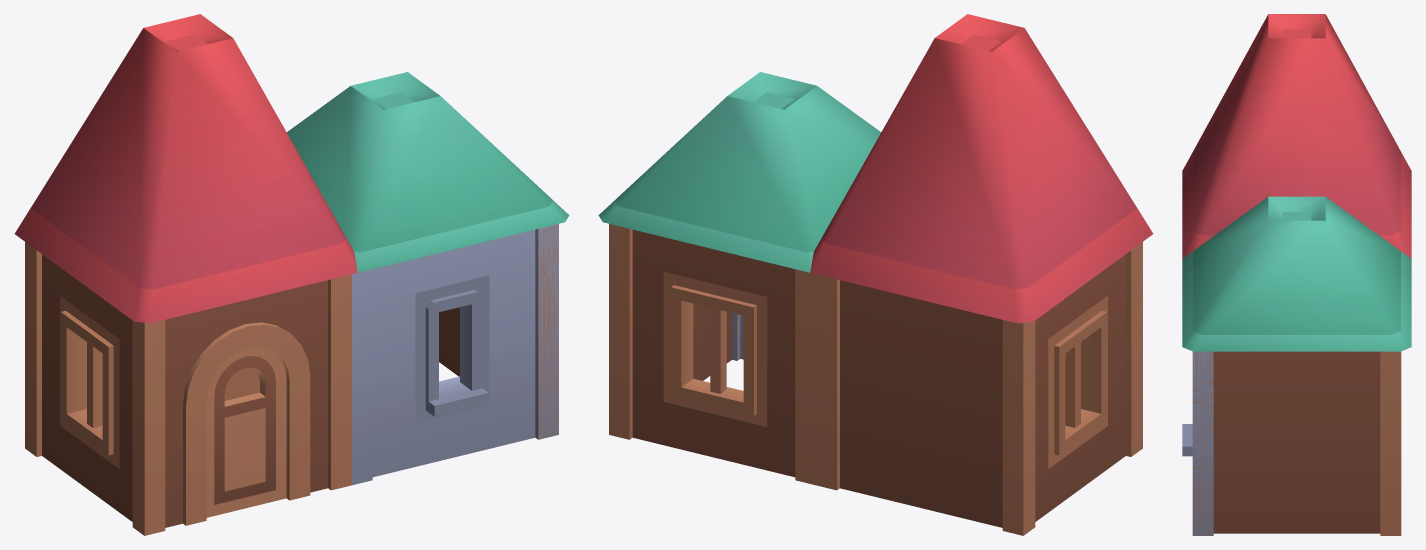
Rendered from human_c.glb.
The picture shows the model from 3 angles, left to right: view 1: azimuth 30°, elevation 25°; view 2: azimuth 150°, elevation 25°; view 3: azimuth 270°, elevation 25°; orthographic projection. The views are drawn at different scales.
Parts seen in each view (by area): view 1: wall-wood-door; view 2: wall-wood-door; view 3: wall-wood-door.
Boxes of the visible parts, bbox=[...] form: wall-wood-door: bbox=[14, 14, 569, 535]; wall-wood-door: bbox=[598, 14, 1153, 535]; wall-wood-door: bbox=[1182, 14, 1411, 535].
Bounding box in the file's own units: 2.1 × 2 × 1.1.
Materials: 1 (1 with a texture image).
